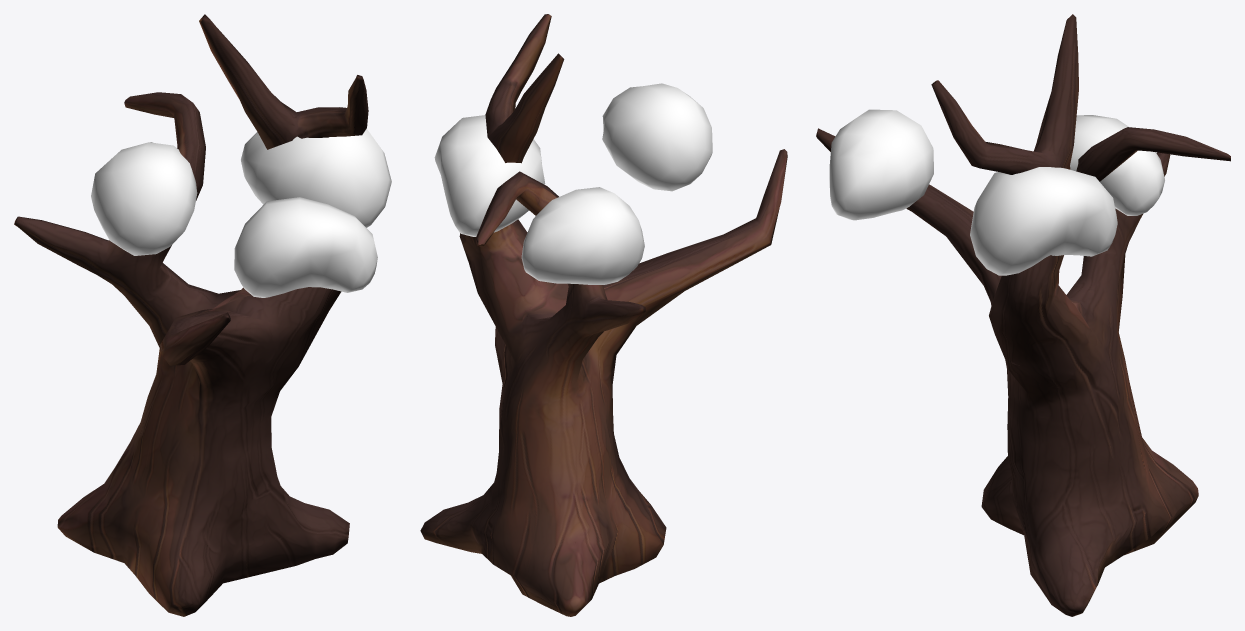
Rendered from tree3.fbx.
The picture shows the model from 3 angles, left to right: view 1: azimuth 30°, elevation 25°; view 2: azimuth 150°, elevation 25°; view 3: azimuth 270°, elevation 25°; orthographic projection. The views are drawn at different scales.
Visible parts, largest first — view 1: polySurface53; view 2: polySurface53; view 3: polySurface53.
Part boxes in pixels (x1,y1,x2,y2): polySurface53: [14, 14, 391, 616]; polySurface53: [420, 14, 787, 616]; polySurface53: [816, 14, 1230, 616].
Bounding box in the file's own units: 553 × 1014 × 706.
